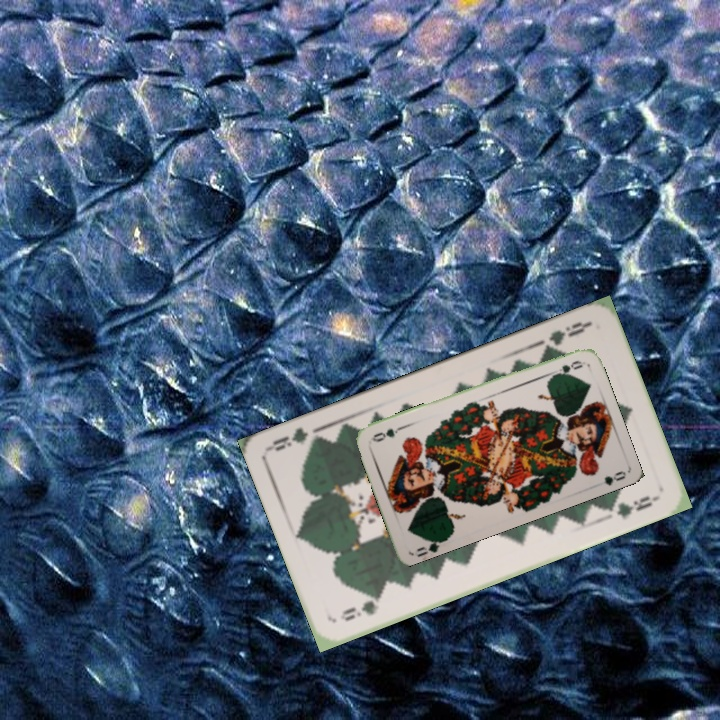G9: (540, 317, 593, 356), (336, 591, 384, 624)
GO: (546, 356, 585, 380), (412, 535, 449, 558)
